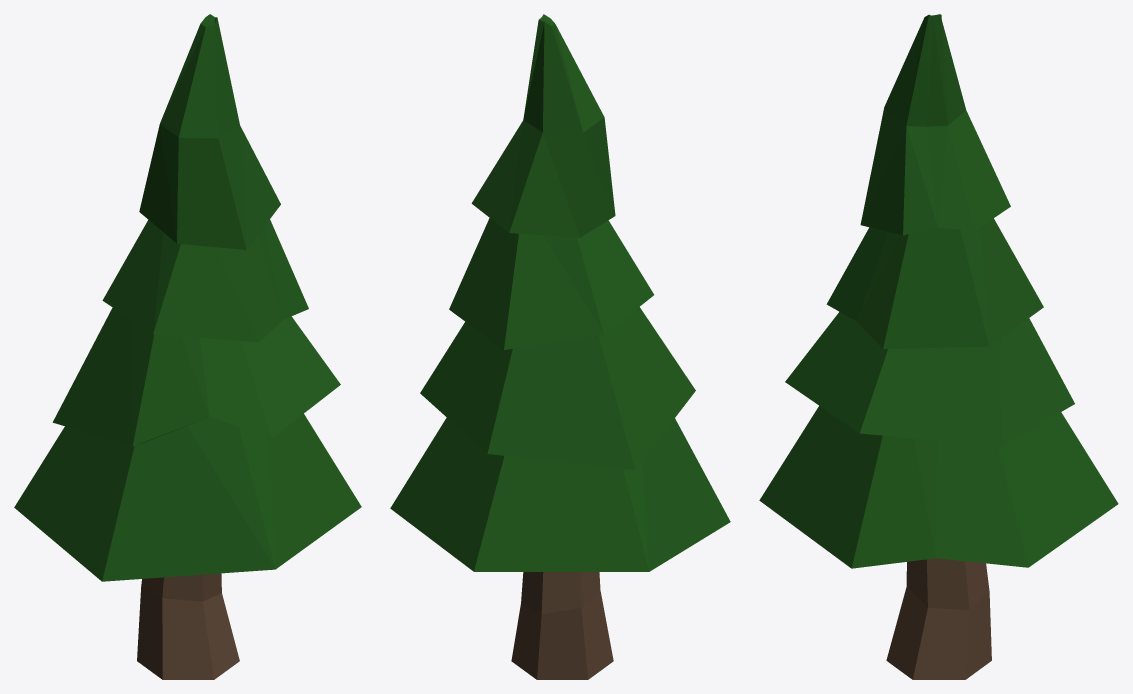
The model's file is pine3.glb.
3 renders of one model, left to right at view 1: azimuth 30°, elevation 25°; view 2: azimuth 150°, elevation 25°; view 3: azimuth 270°, elevation 25°, orthographic. The views are drawn at different scales.
Parts seen in each view (by area): view 1: Leaves.005, Trunk.005; view 2: Leaves.005, Trunk.005; view 3: Leaves.005, Trunk.005.
Boxes of the visible parts, x1=… form: Leaves.005: x1=14, y1=14, x2=361, y2=581; Trunk.005: x1=137, y1=573, x2=239, y2=679; Leaves.005: x1=390, y1=14, x2=730, y2=571; Trunk.005: x1=511, y1=572, x2=613, y2=679; Leaves.005: x1=759, y1=14, x2=1118, y2=568; Trunk.005: x1=886, y1=558, x2=991, y2=679.
Size of the model in its own units: 1.69 by 3.94 by 1.95.
